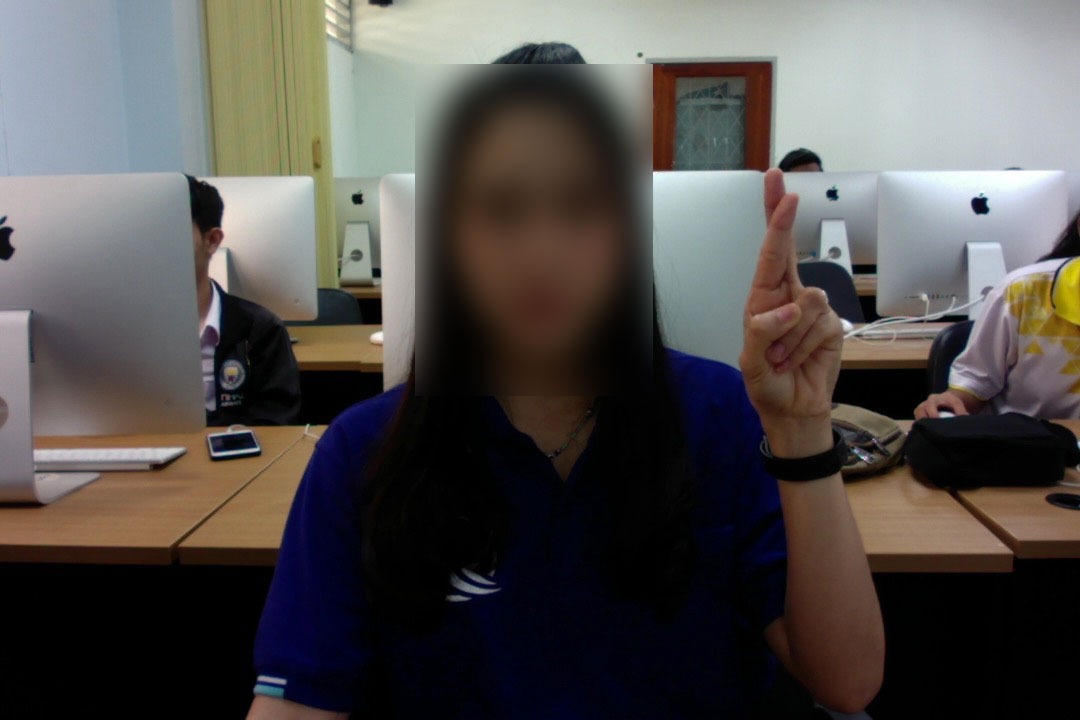rao: (729, 163, 849, 433)
